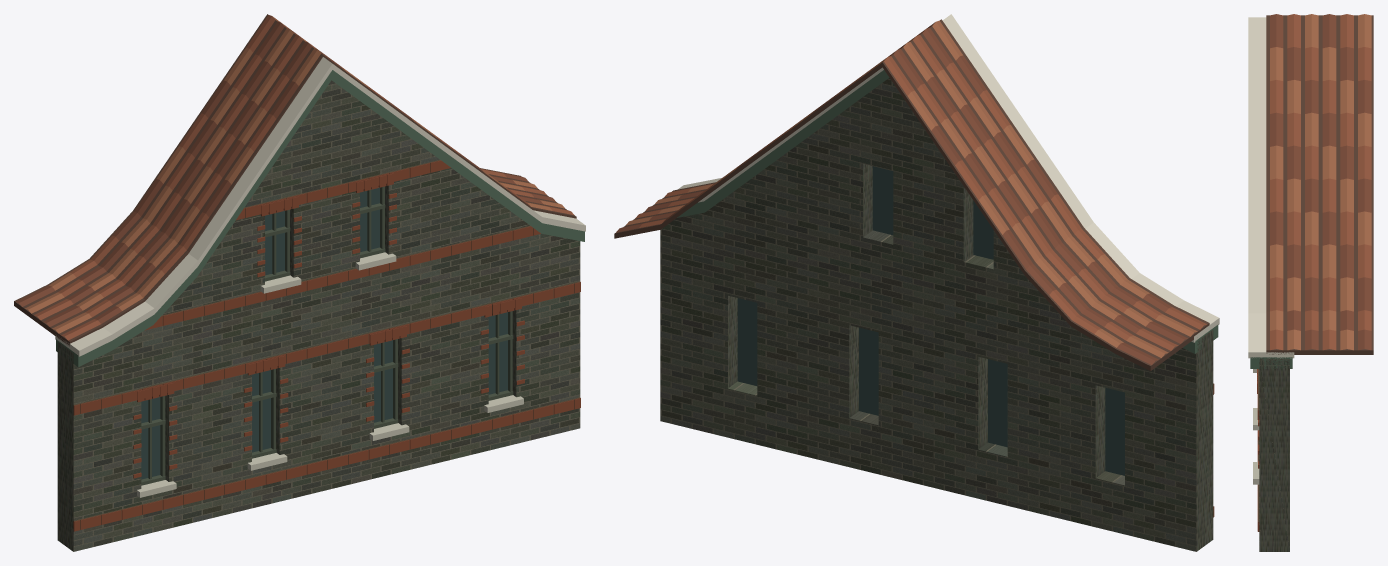
The model's file is changning-yuyuan-new-village-swept-gable-lod.glb.
The picture shows the model from 3 angles, left to right: view 1: azimuth 30°, elevation 25°; view 2: azimuth 150°, elevation 25°; view 3: azimuth 270°, elevation 25°; orthographic projection. The views are drawn at different scales.
Parts seen in each view (by area): view 1: 愚园新村排屋灰砖山墙与弯折封檐; view 2: 愚园新村排屋灰砖山墙与弯折封檐; view 3: 愚园新村排屋灰砖山墙与弯折封檐.
Part boxes in pixels (left/top/right/bottom): 愚园新村排屋灰砖山墙与弯折封檐: left=14, top=14, right=585, bottom=551; 愚园新村排屋灰砖山墙与弯折封檐: left=614, top=14, right=1219, bottom=551; 愚园新村排屋灰砖山墙与弯折封檐: left=1248, top=14, right=1373, bottom=551.
Bounding box in the file's own units: 6.4 × 5.24 × 1.42.
Materials: 12 (1 with a texture image).
